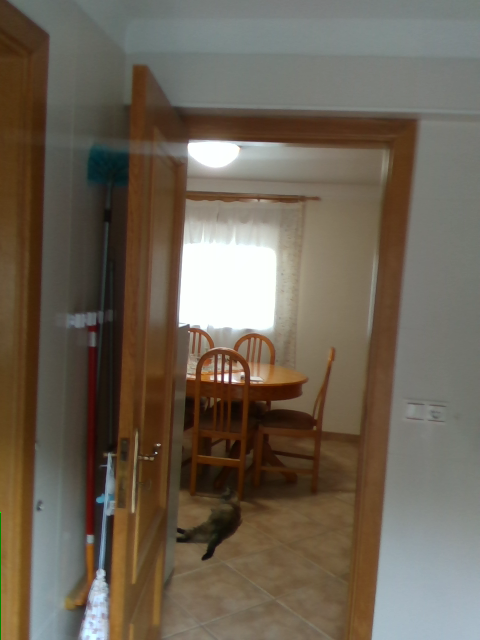open: (105, 66, 421, 639)
